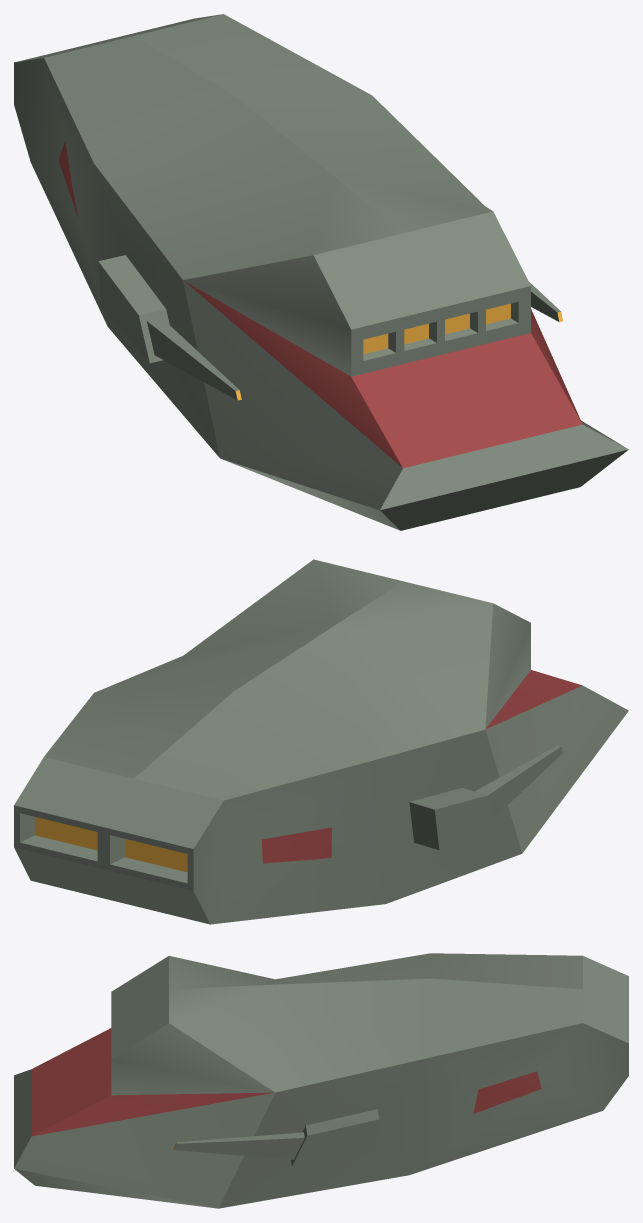
The model's file is ennemy_ship.FBX.
The picture shows the model from 3 angles, top to bottom: view 1: azimuth 30°, elevation 25°; view 2: azimuth 150°, elevation 25°; view 3: azimuth 270°, elevation 25°; orthographic projection. The views are drawn at different scales.
Visible parts, largest first — view 1: Box001; view 2: Box001; view 3: Box001.
Part boxes in pixels (x1,y1,x2,y2): Box001: (14,14,628,530); Box001: (14,559,628,924); Box001: (14,953,628,1208).
Bounding box in the file's own units: 38.83 × 24.04 × 77.2.
